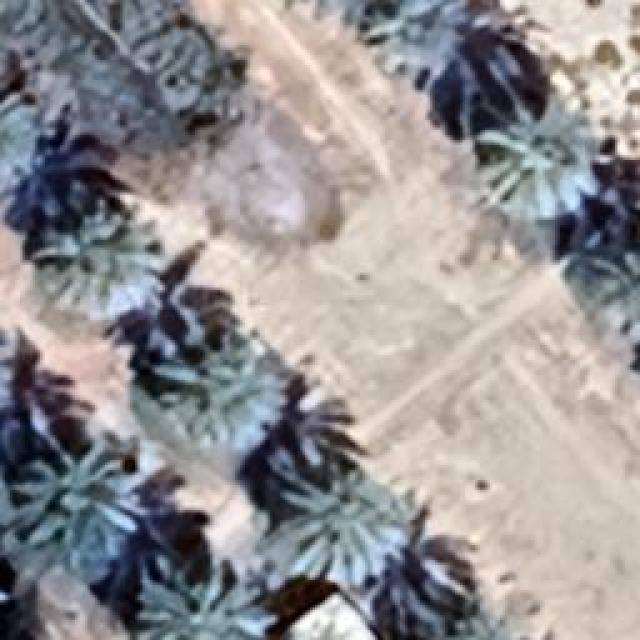PalmTree: (2, 435, 148, 570), (275, 465, 410, 590), (44, 123, 160, 258), (472, 98, 606, 212), (121, 0, 246, 110), (165, 338, 278, 452), (138, 558, 278, 638), (368, 8, 496, 72), (572, 240, 638, 332), (404, 605, 541, 640), (0, 0, 106, 42), (261, 0, 375, 22), (0, 310, 18, 432)
